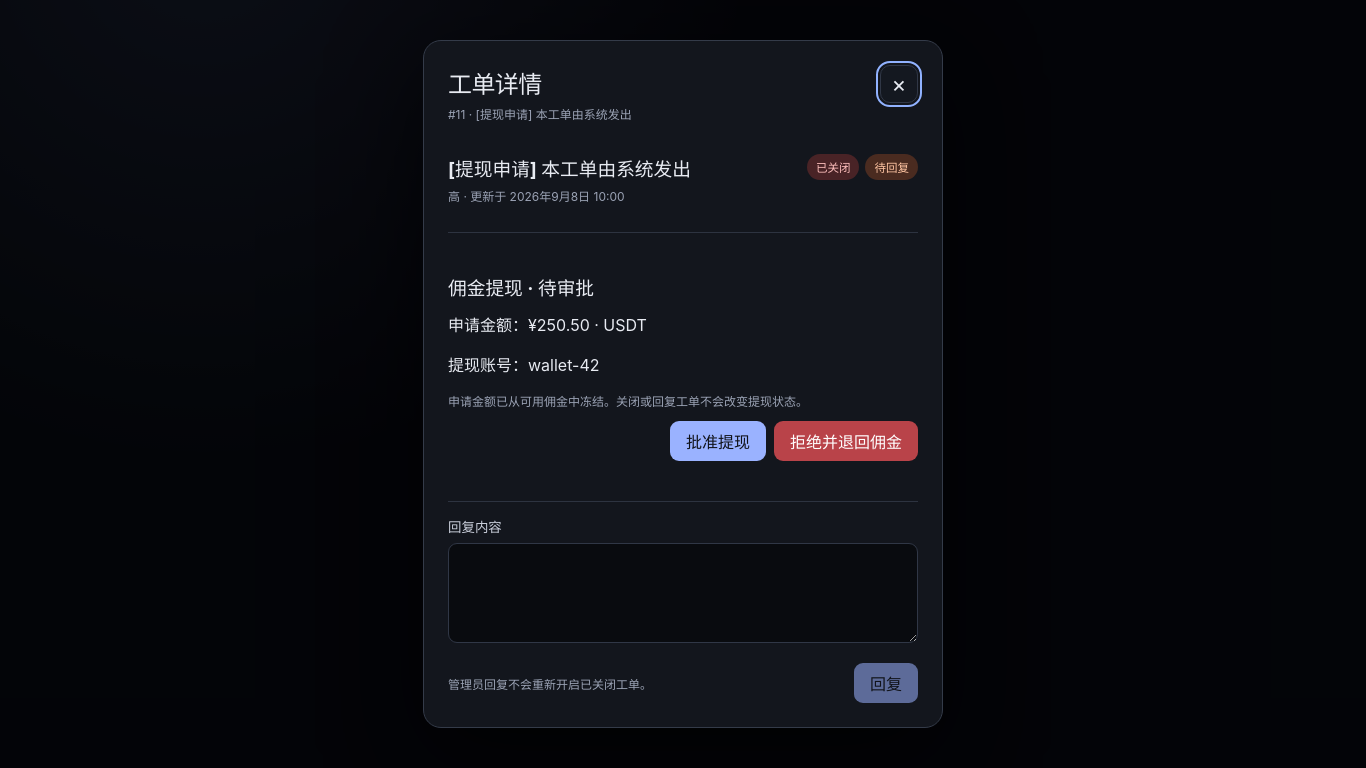
it: Commission withdrawal in ticket details › rejects with explicit confirmation and shows released funds
Click the button "拒绝并退回佣金". click: (846, 441)
box: x1=774 y1=421 x2=918 y2=461
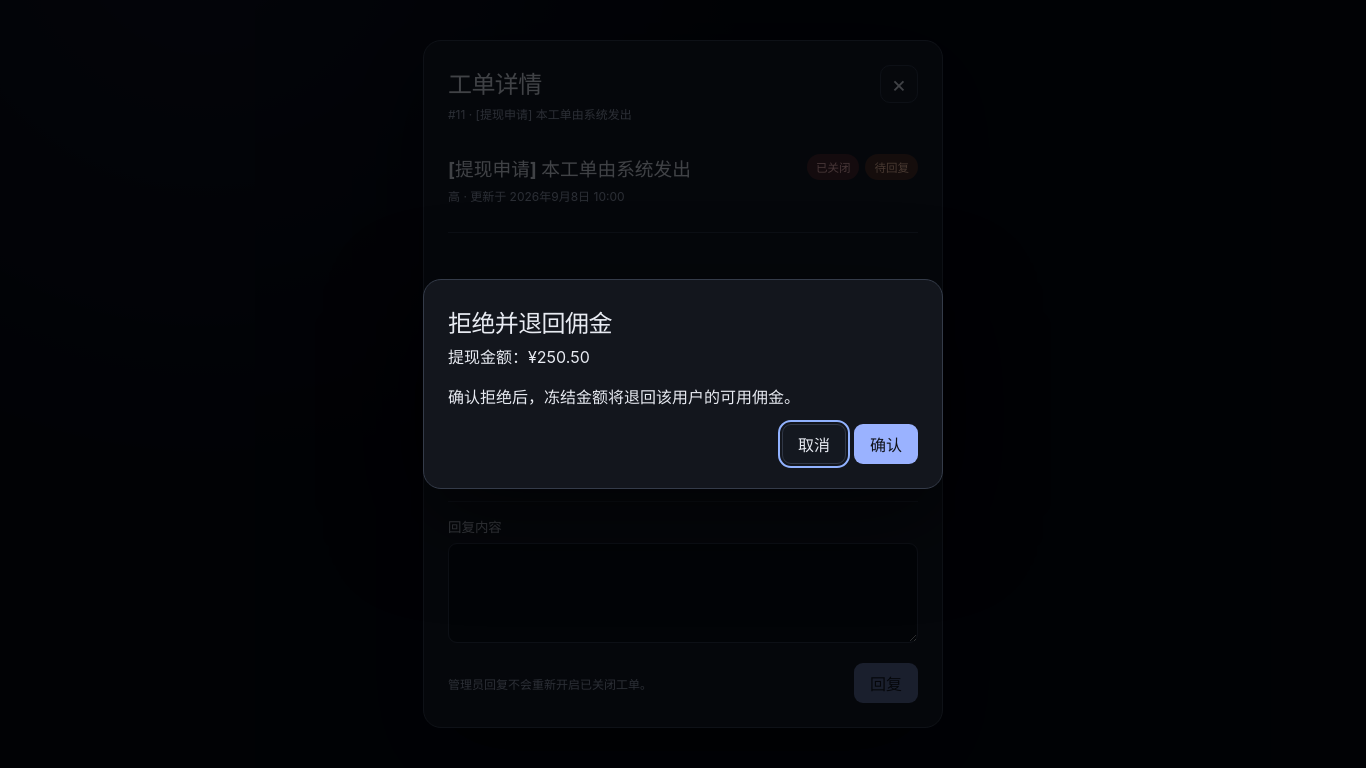
Click the button "确认". click: (886, 444)
box: x1=854 y1=424 x2=918 y2=464
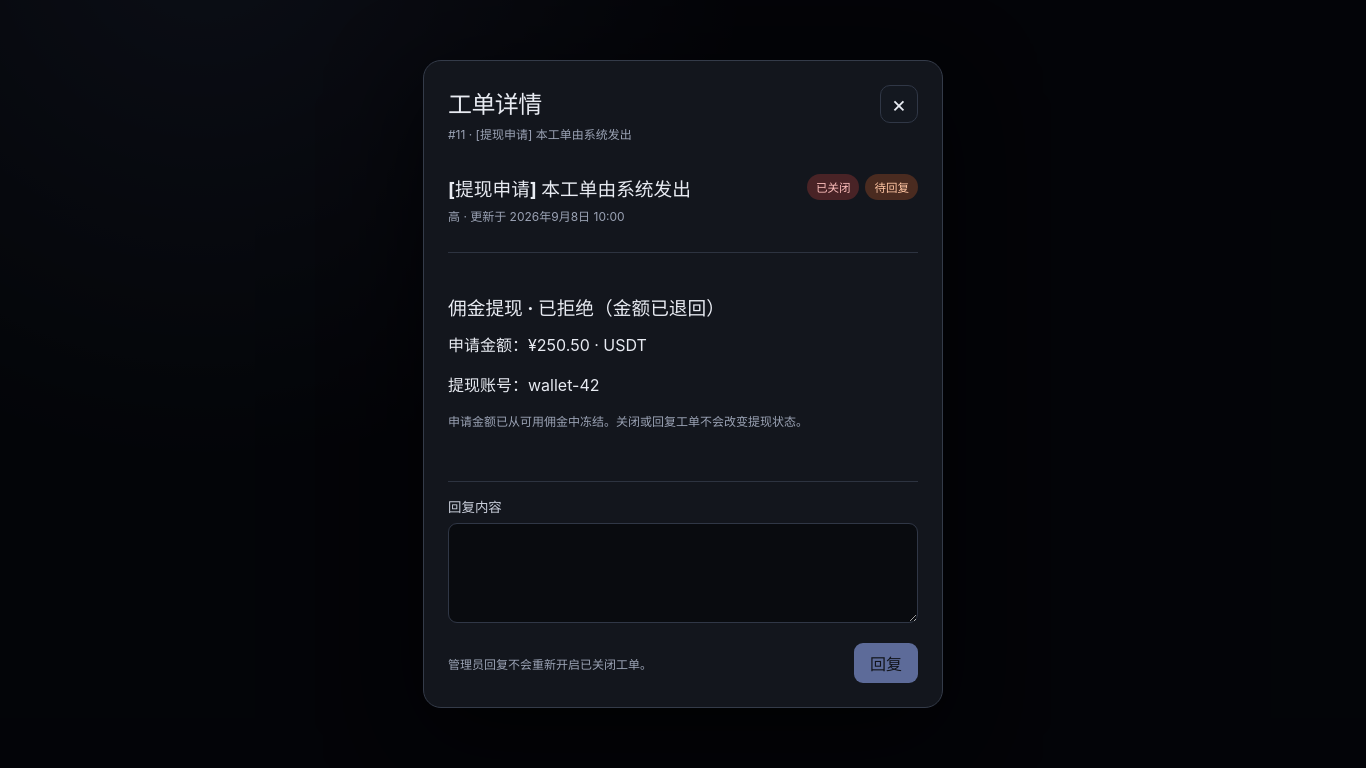
Result: the heading "佣金提现 · 已拒绝（金额已退回）" is shown at x1=448 y1=297 x2=725 y2=320
